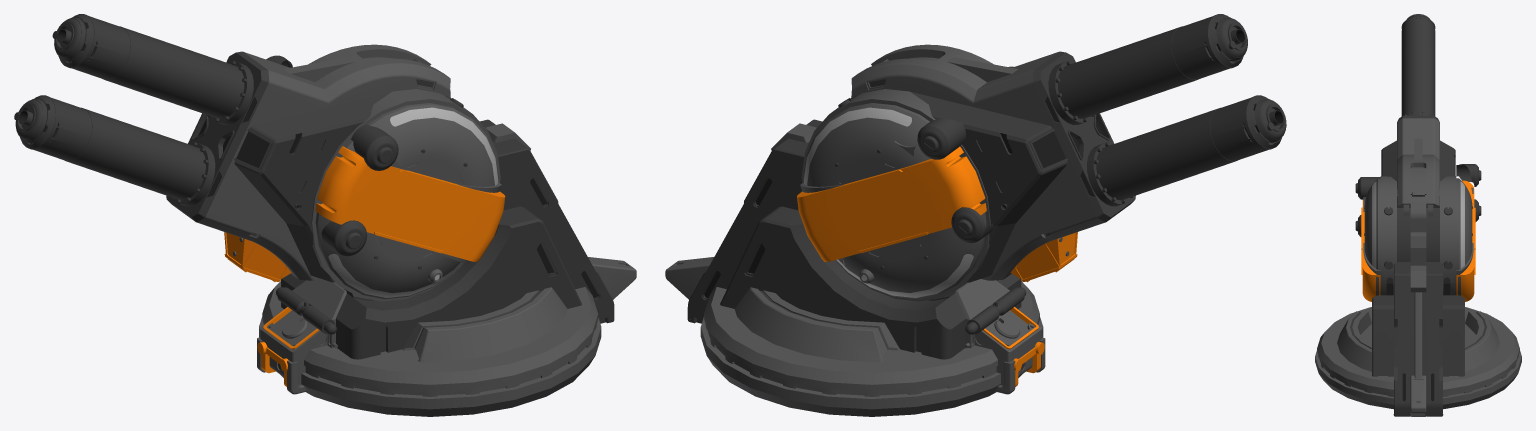
3 renders of one model, left to right at view 1: azimuth 30°, elevation 25°; view 2: azimuth 150°, elevation 25°; view 3: azimuth 270°, elevation 25°, orthographic. The views are drawn at different scales.
Visible parts, largest first — view 1: Color_007 (×9), Color_006 (×6), Color_C01 (×3), Color_003, Color_008; view 2: Color_006 (×6), Color_007 (×9), Color_C01 (×3), Color_003, Color_008; view 3: Color_006 (×8), Color_007 (×9), Color_C01 (×2), Color_003, Color_008.
Part boxes in pixels (left/top/right/bottom): Color_007 (×9): left=15, top=14, right=614, bottom=359; Color_006 (×6): left=197, top=44, right=636, bottom=416; Color_C01 (×3): left=224, top=146, right=505, bottom=386; Color_003: left=328, top=107, right=498, bottom=297; Color_008: left=236, top=131, right=301, bottom=208; Color_006 (×6): left=665, top=44, right=1105, bottom=416; Color_007 (×9): left=687, top=14, right=1286, bottom=359; Color_C01 (×3): left=797, top=146, right=1077, bottom=386; Color_003: left=803, top=107, right=973, bottom=297; Color_008: left=1000, top=131, right=1065, bottom=208; Color_006 (×8): left=1315, top=118, right=1521, bottom=416; Color_007 (×9): left=1355, top=14, right=1481, bottom=416; Color_C01 (×2): left=1361, top=180, right=1475, bottom=301; Color_003: left=1372, top=181, right=1464, bottom=268; Color_008: left=1402, top=373, right=1434, bottom=401.
Size of the model in its own units: 868 by 563 by 421.
